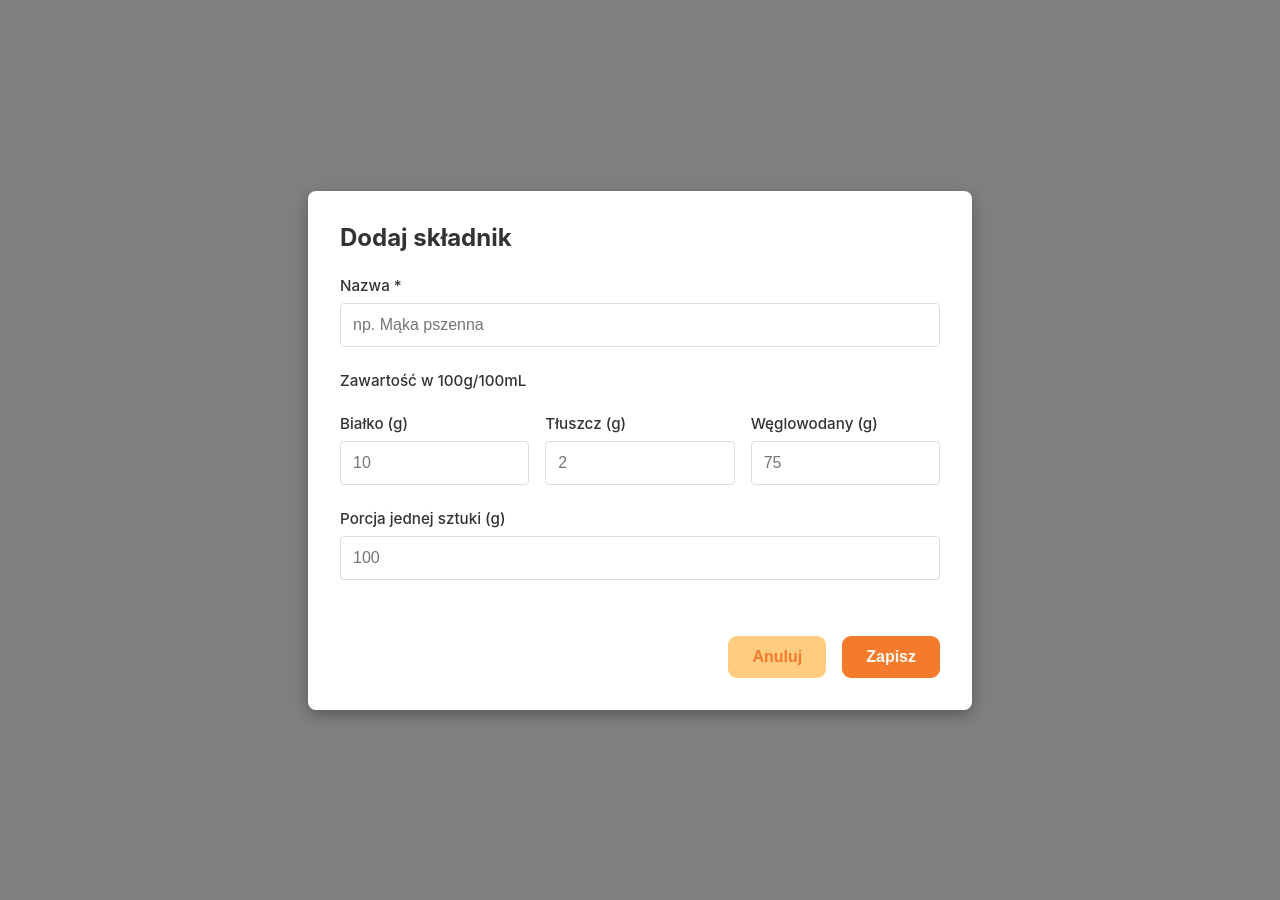
Scenario: IngredientDialog › displays error when ingredient already exists
Type "Mąka" into the field with placeholder "np. Mąka pszenna" at (640,324), box top-left (340, 302), bottom-right (940, 346)
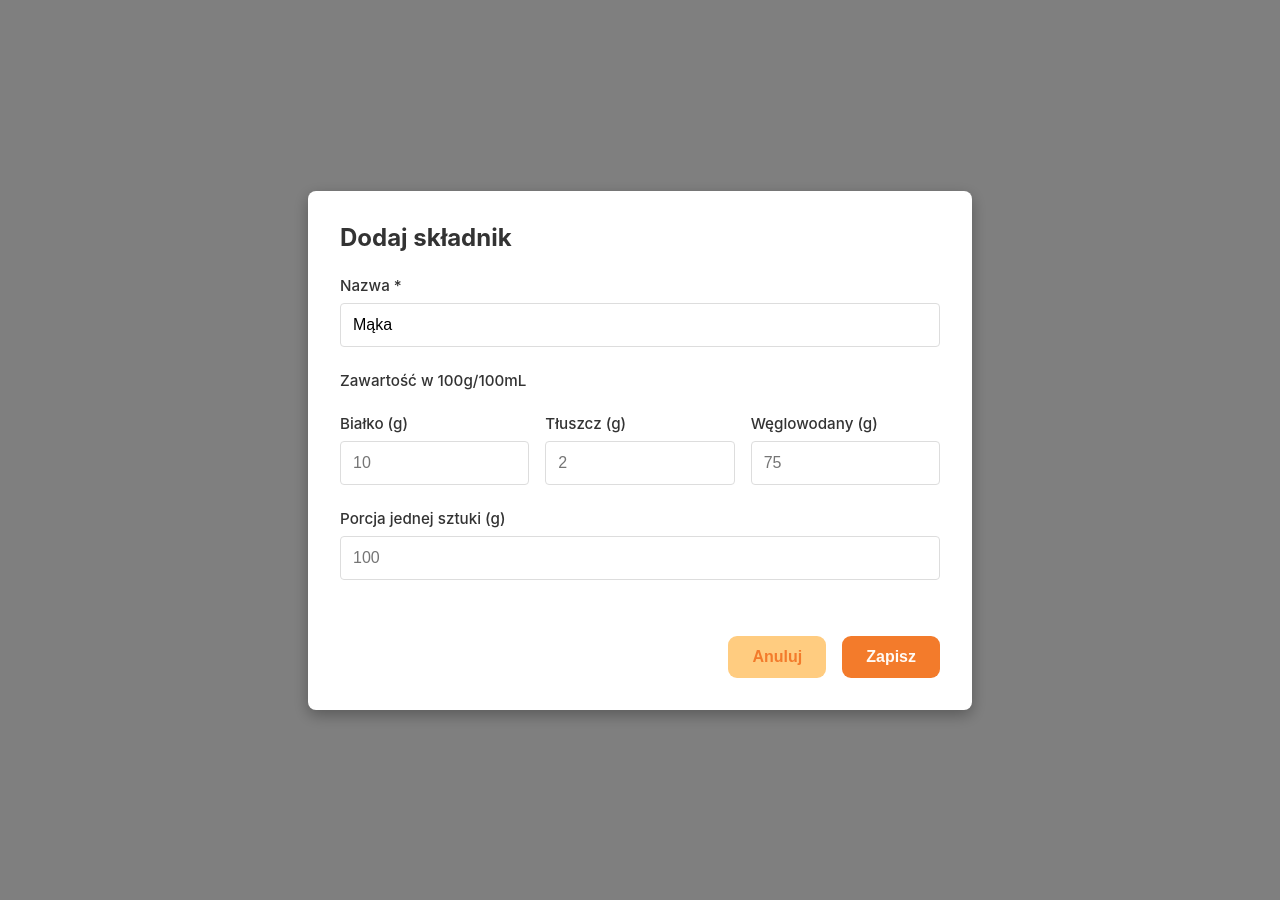
Click the button "Zapisz" at (891,656), box top-left (842, 636), bottom-right (940, 678)
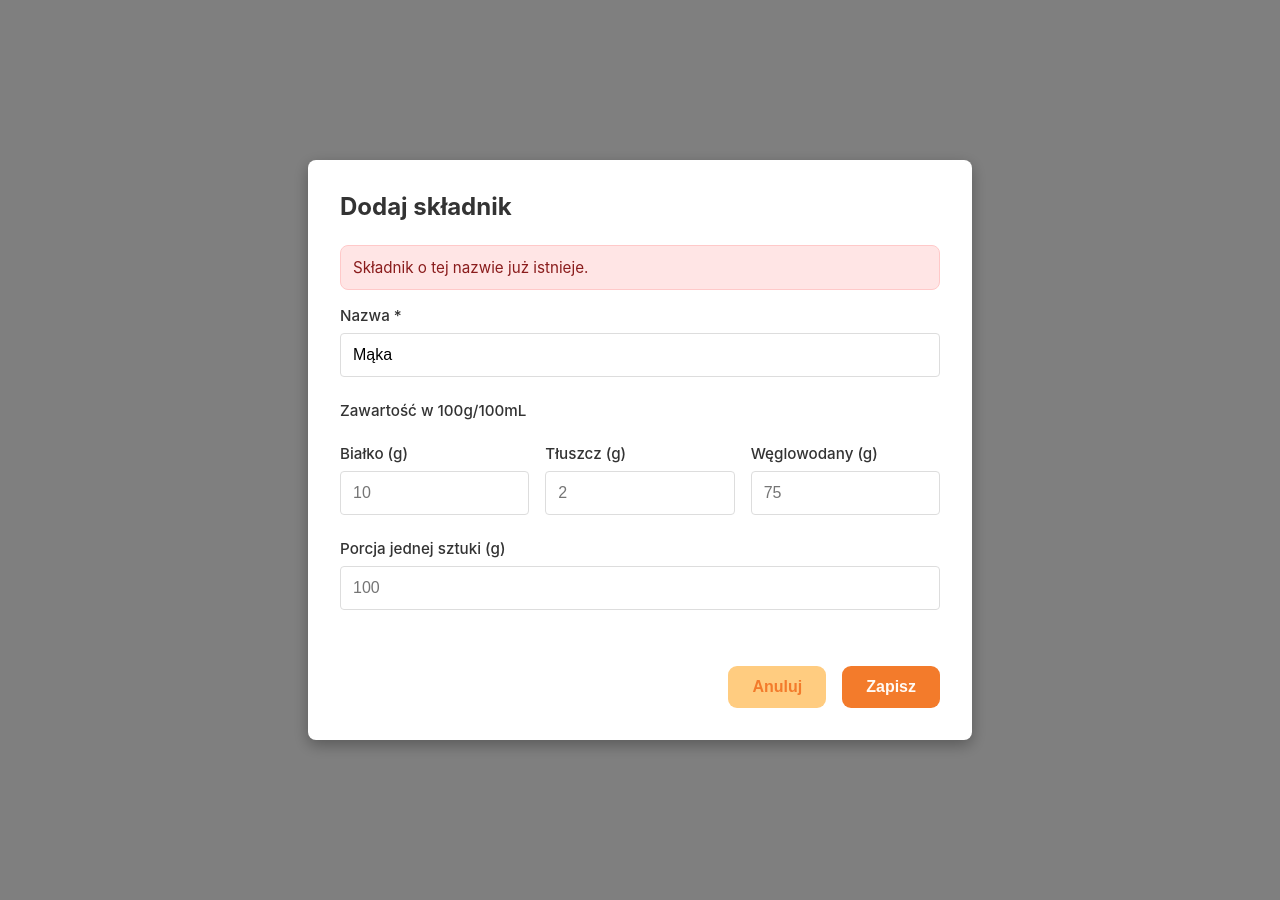
Result: the text "Składnik o tej nazwie już istnieje." is shown at top-left (340, 245), bottom-right (940, 290)
